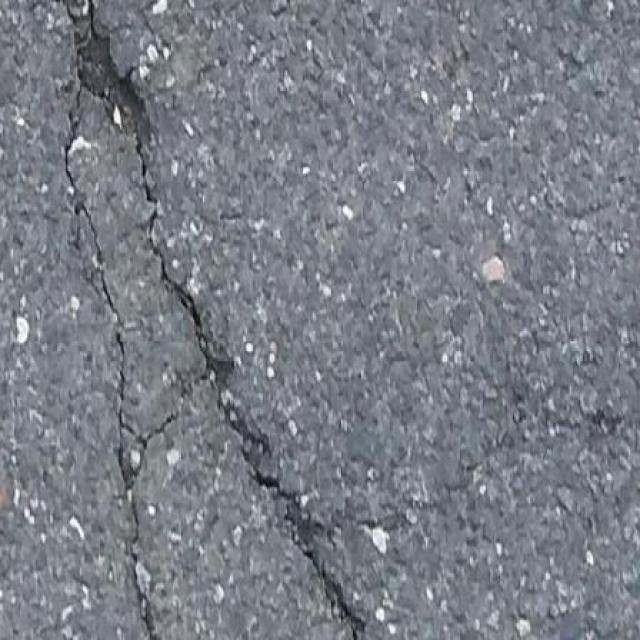Crack: (58, 0, 364, 640)
